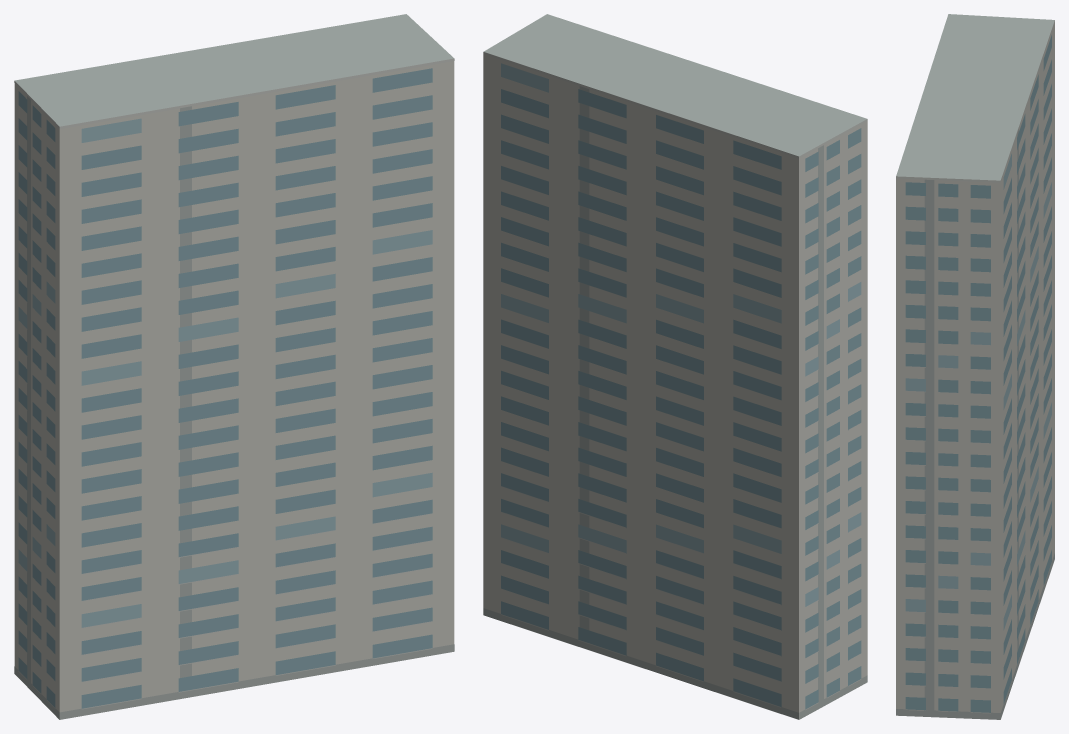
The model's file is residential-15bf1598-6a26-4db8-b8e9-5385cf4efdd8.glb.
3 views of the same model, side by side, from view 1: azimuth 30°, elevation 25°; view 2: azimuth 150°, elevation 25°; view 3: azimuth 270°, elevation 25° (orthographic). The views are drawn at different scales.
Parts seen in each view (by area): view 1: residential-15bf1598-6a26-4db8-b8e9-5385cf4efdd8.tmp; view 2: residential-15bf1598-6a26-4db8-b8e9-5385cf4efdd8.tmp; view 3: residential-15bf1598-6a26-4db8-b8e9-5385cf4efdd8.tmp.
Boxes of the visible parts, x1,y1,x2,y2 form: residential-15bf1598-6a26-4db8-b8e9-5385cf4efdd8.tmp: [14, 14, 454, 719]; residential-15bf1598-6a26-4db8-b8e9-5385cf4efdd8.tmp: [483, 14, 867, 719]; residential-15bf1598-6a26-4db8-b8e9-5385cf4efdd8.tmp: [896, 14, 1054, 719].
Size of the model in its own units: 40.44 by 61 by 16.3.
